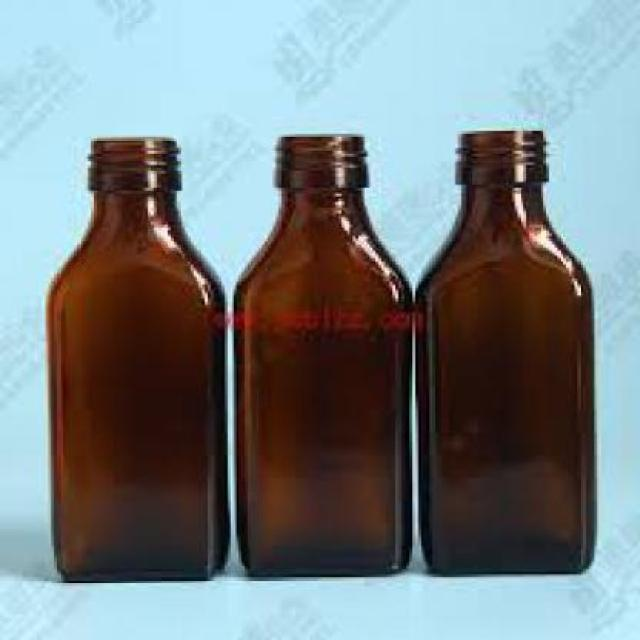kaca: (412, 128, 596, 575), (48, 137, 228, 580), (234, 134, 409, 572)
